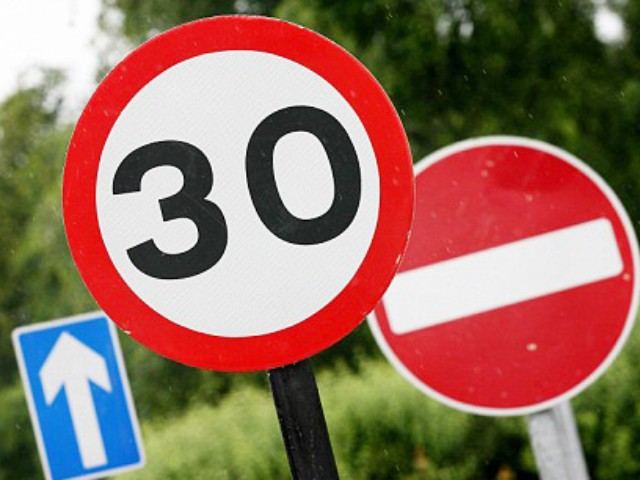Speed_limit_30km: (59, 16, 418, 375)
